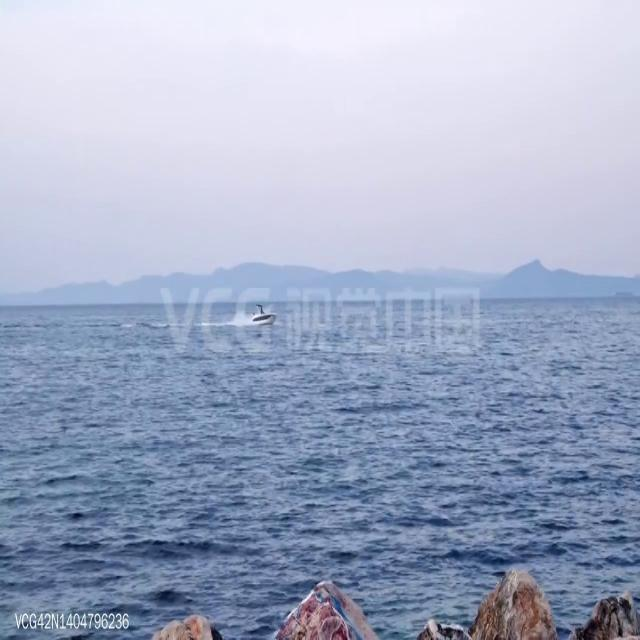houseboat: (251, 301, 277, 327)
